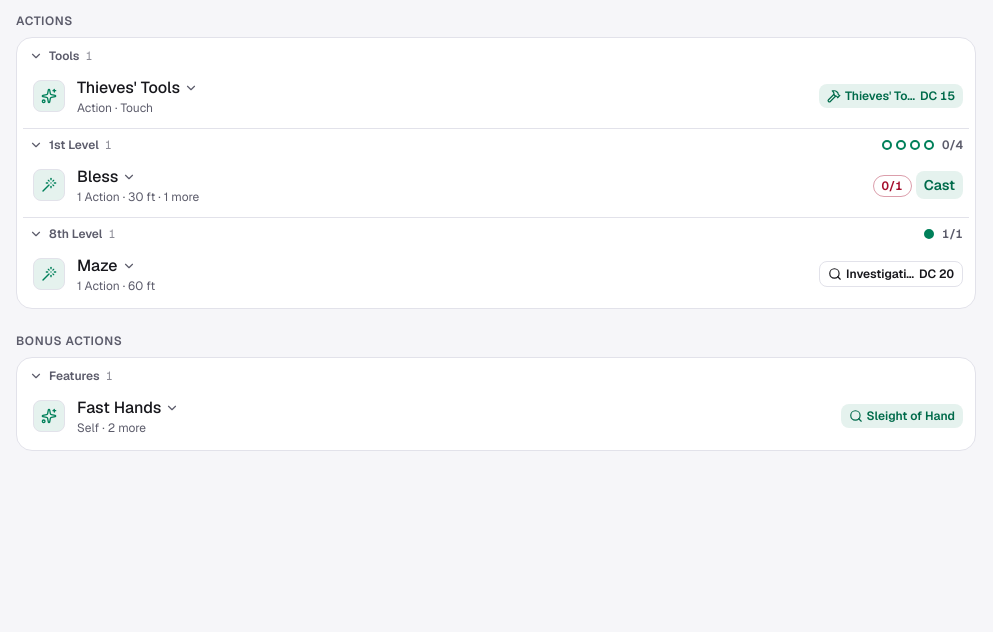
Test case: action-entry: checks activities ask for, and activities that use others › dims a free casting with no uses left, saying so
The image size is (993, 632).
Click the button "Bless 1 Action · 30 ft · 1 more" at (49, 185), box 27,163 -> 864,207
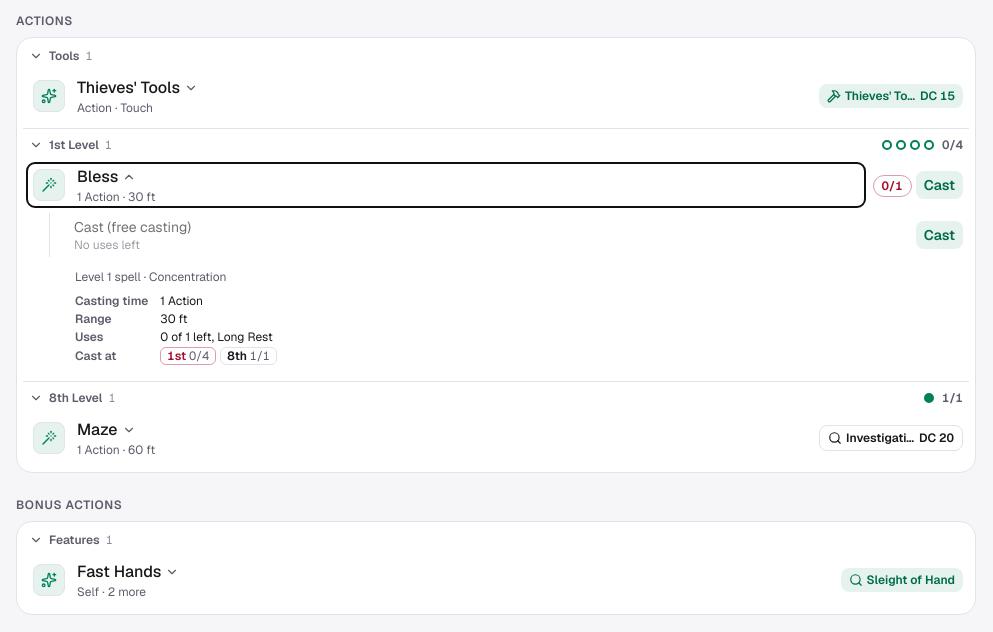
Now the element with class "opacity-60" is shown, box 74,218 -> 191,253
